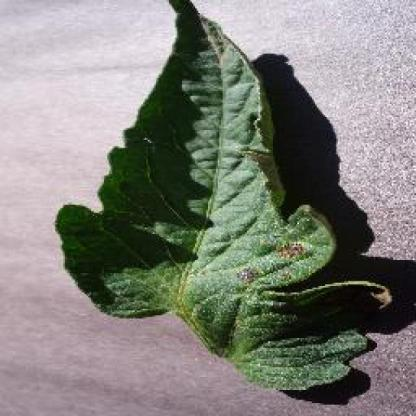Tomato_Blight: (54, 0, 391, 388)
